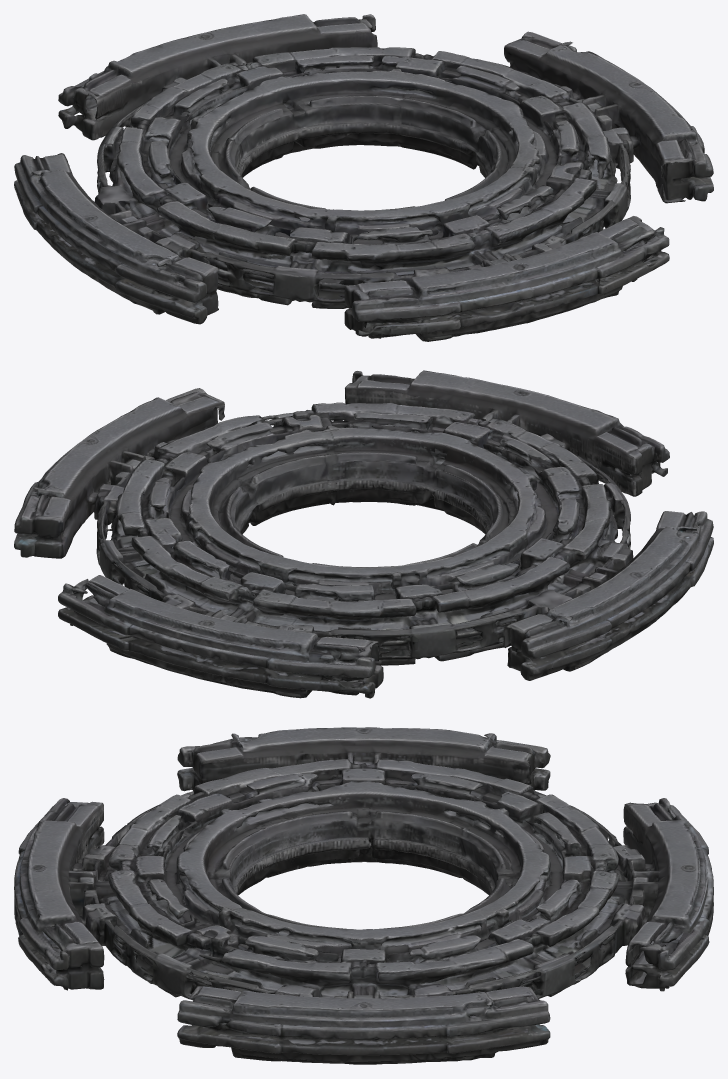
File: BossEye_Shell.fbx
3 renders of one model, top to bottom at view 1: azimuth 30°, elevation 25°; view 2: azimuth 150°, elevation 25°; view 3: azimuth 270°, elevation 25°, orthographic. The views are drawn at different scales.
Visible parts, largest first — view 1: texture_mapping; view 2: texture_mapping; view 3: texture_mapping.
Part boxes in pixels (x1,y1,x2,y2): texture_mapping: (14,14,713,341); texture_mapping: (14,370,713,698); texture_mapping: (14,727,713,1064).
Bounding box in the file's own units: 0.9966 × 0.9966 × 0.1128.
1 material, 1 textured.
